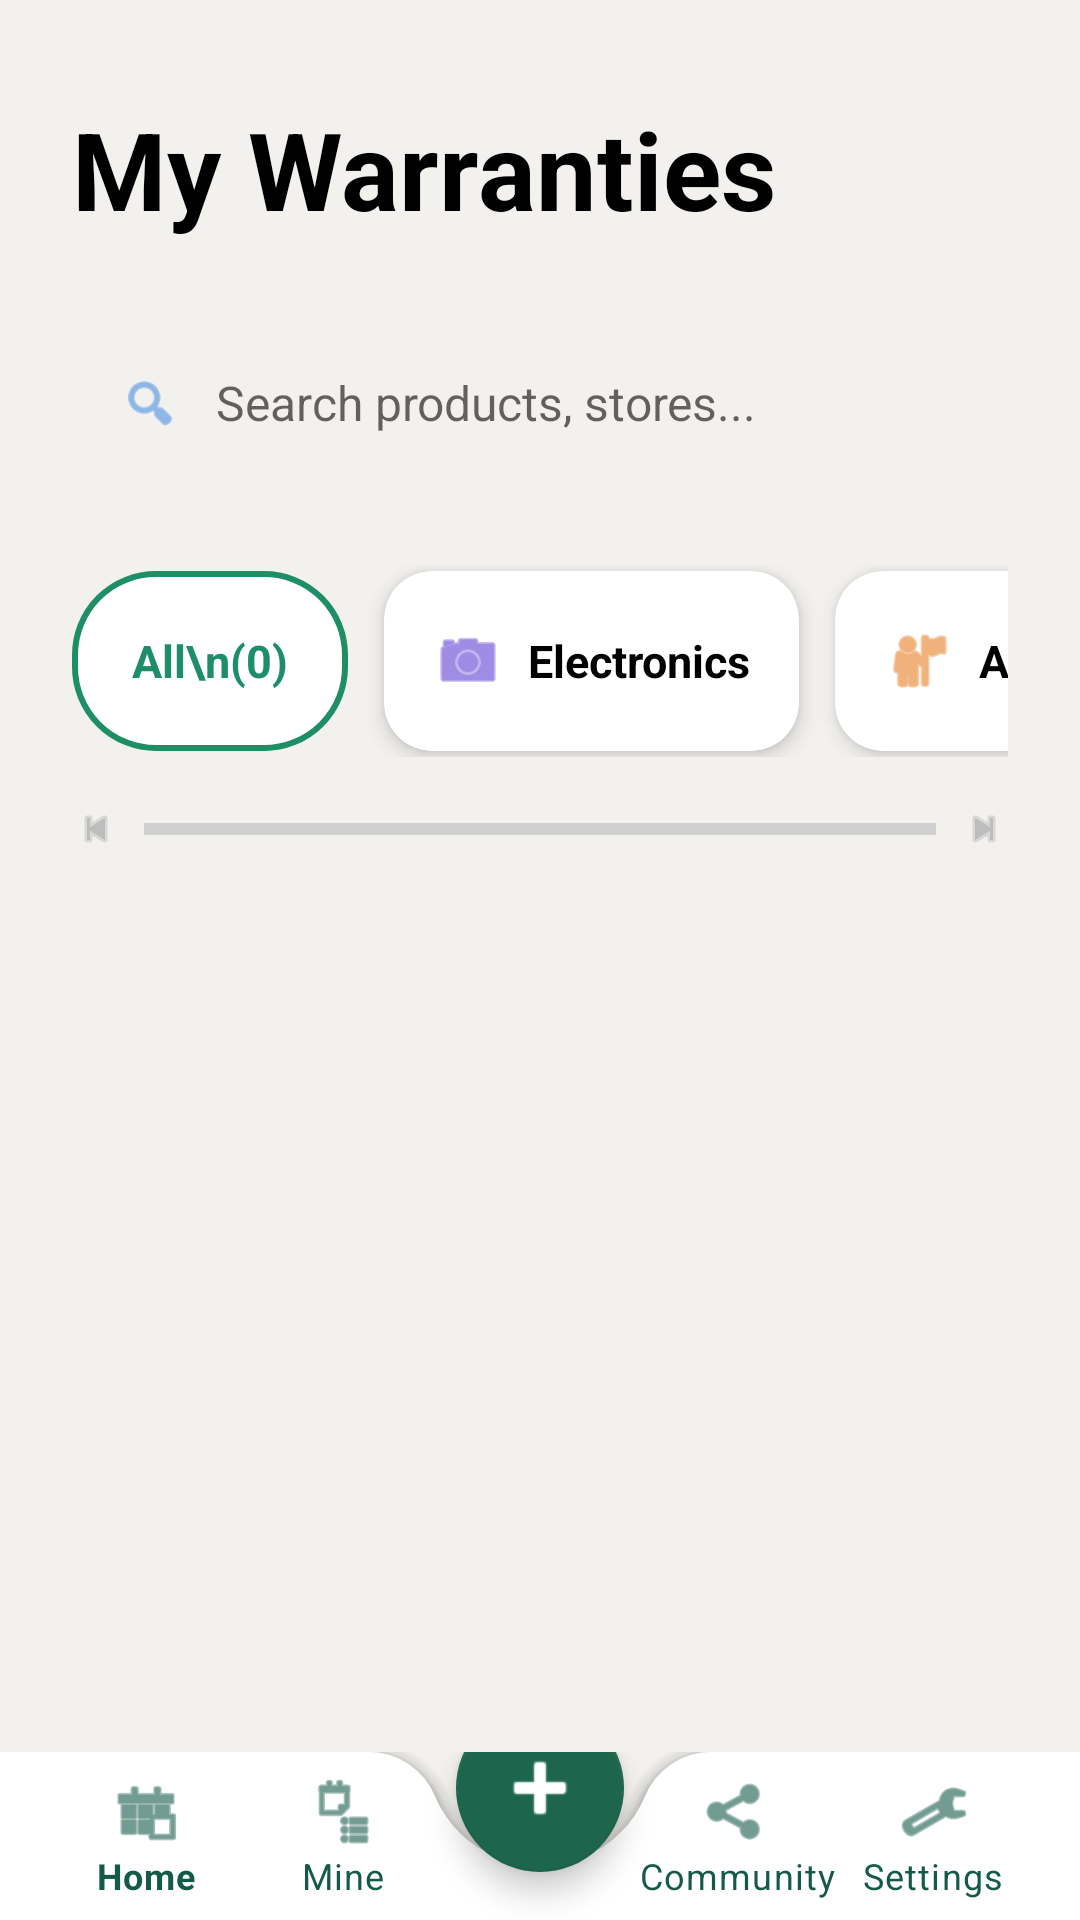

Named icons in this screenshot (1080px×1920px) and their centers, (x,y):
camera: (468,660)
next: (984,829)
previous: (96,829)
